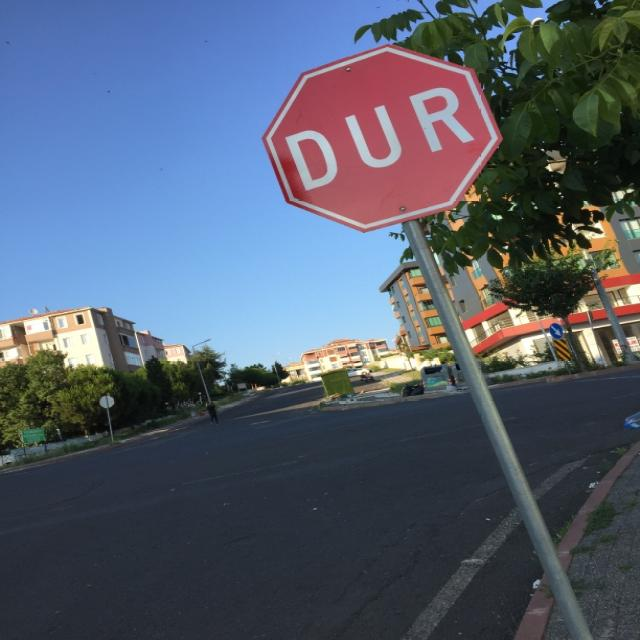dur: (259, 44, 504, 233)
